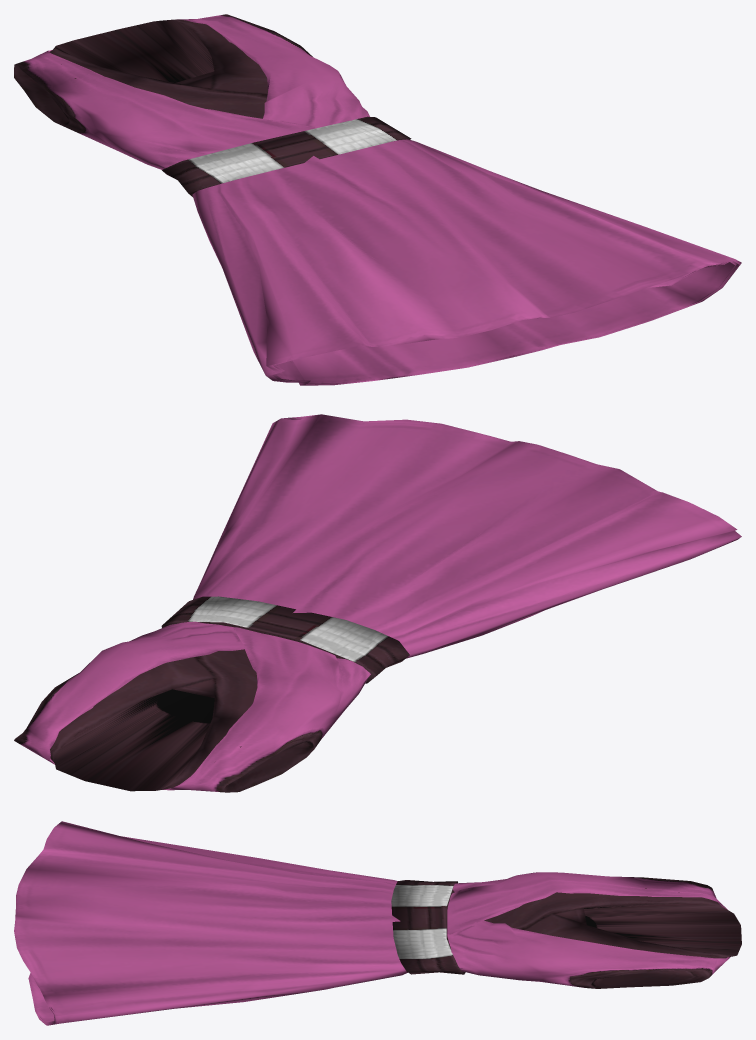
File: ApronDress_Ground.fbx
3 views of the same model, one above another, from view 1: azimuth 30°, elevation 25°; view 2: azimuth 150°, elevation 25°; view 3: azimuth 270°, elevation 25° (orthographic). The views are drawn at different scales.
Parts seen in each view (by area): view 1: Apron Dress; view 2: Apron Dress; view 3: Apron Dress.
Part boxes in pixels (left/top/right/bottom): Apron Dress: left=14, top=14, right=741, bottom=385; Apron Dress: left=14, top=414, right=741, bottom=792; Apron Dress: left=14, top=821, right=741, bottom=1025.
Size of the model in its own units: 0.3102 by 0.0289 by 0.4884.
